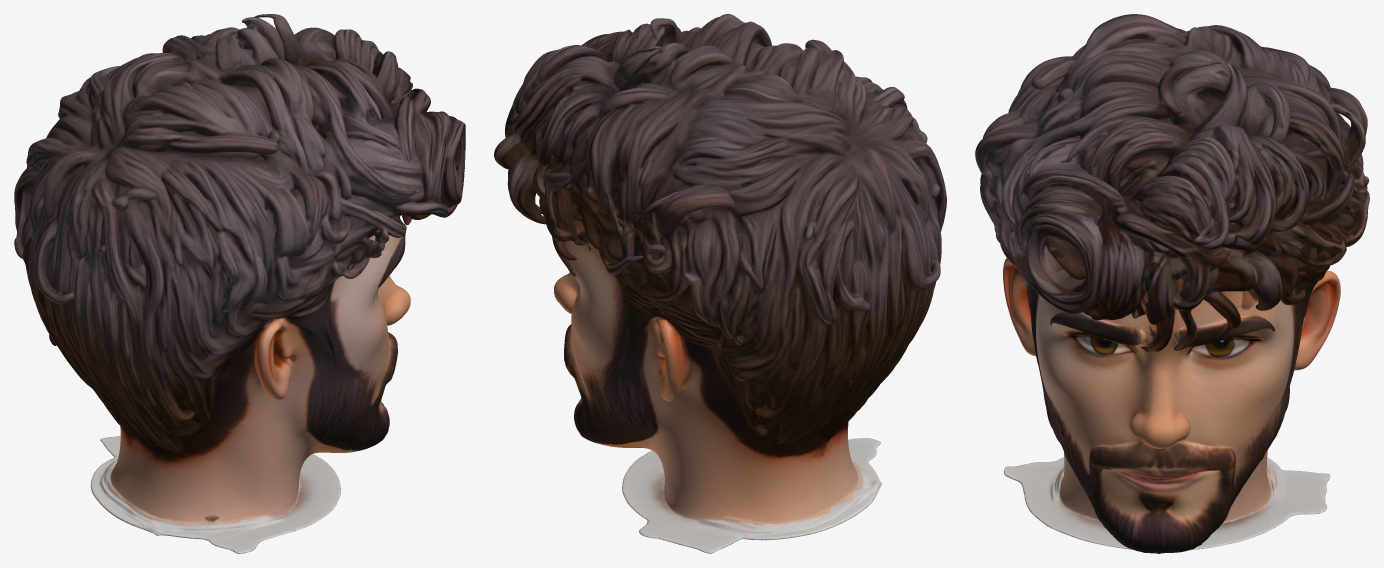
Rendered from male head 3d model.glb.
3 views of the same model, side by side, from view 1: azimuth 30°, elevation 25°; view 2: azimuth 150°, elevation 25°; view 3: azimuth 270°, elevation 25° (orthographic). The views are drawn at different scales.
Parts seen in each view (by area): view 1: tripo_node_a97acde7-29dc-46e0-bc13-d2b1170c4142; view 2: tripo_node_a97acde7-29dc-46e0-bc13-d2b1170c4142; view 3: tripo_node_a97acde7-29dc-46e0-bc13-d2b1170c4142.
Part boxes in pixels (x1,y1,x2,y2): tripo_node_a97acde7-29dc-46e0-bc13-d2b1170c4142: [14, 14, 465, 553]; tripo_node_a97acde7-29dc-46e0-bc13-d2b1170c4142: [494, 14, 946, 553]; tripo_node_a97acde7-29dc-46e0-bc13-d2b1170c4142: [975, 14, 1369, 553].
Size of the model in its own units: 0.9412 by 0.9999 by 0.7555.
1 material, 1 textured.
